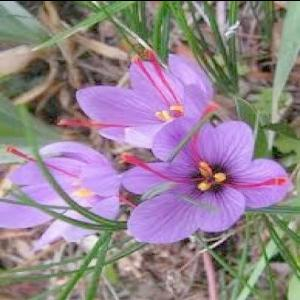Saffron: (120, 118, 292, 241), (73, 48, 214, 149), (0, 138, 120, 248)
